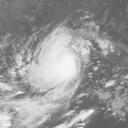cyclone: (18, 29, 88, 97)
